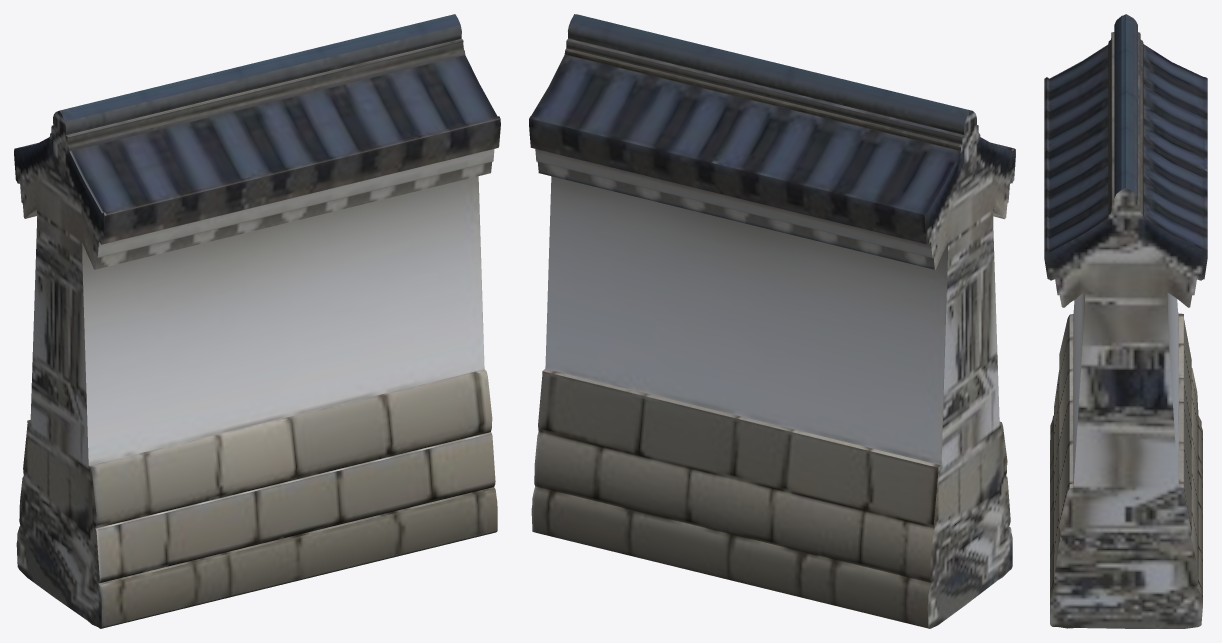
File: wall_segment_4m_lod2.glb
The picture shows the model from 3 angles, left to right: view 1: azimuth 30°, elevation 25°; view 2: azimuth 150°, elevation 25°; view 3: azimuth 270°, elevation 25°; orthographic projection. The views are drawn at different scales.
Parts seen in each view (by area): view 1: wall_segment_4m_lod2; view 2: wall_segment_4m_lod2; view 3: wall_segment_4m_lod2.
Part boxes in pixels (x1=…): wall_segment_4m_lod2: x1=14, y1=14, x2=500, y2=628; wall_segment_4m_lod2: x1=529, y1=14, x2=1015, y2=628; wall_segment_4m_lod2: x1=1044, y1=14, x2=1207, y2=628.
Bounding box in the file's own units: 4 × 4.74 × 1.59.
1 material, 1 textured.
